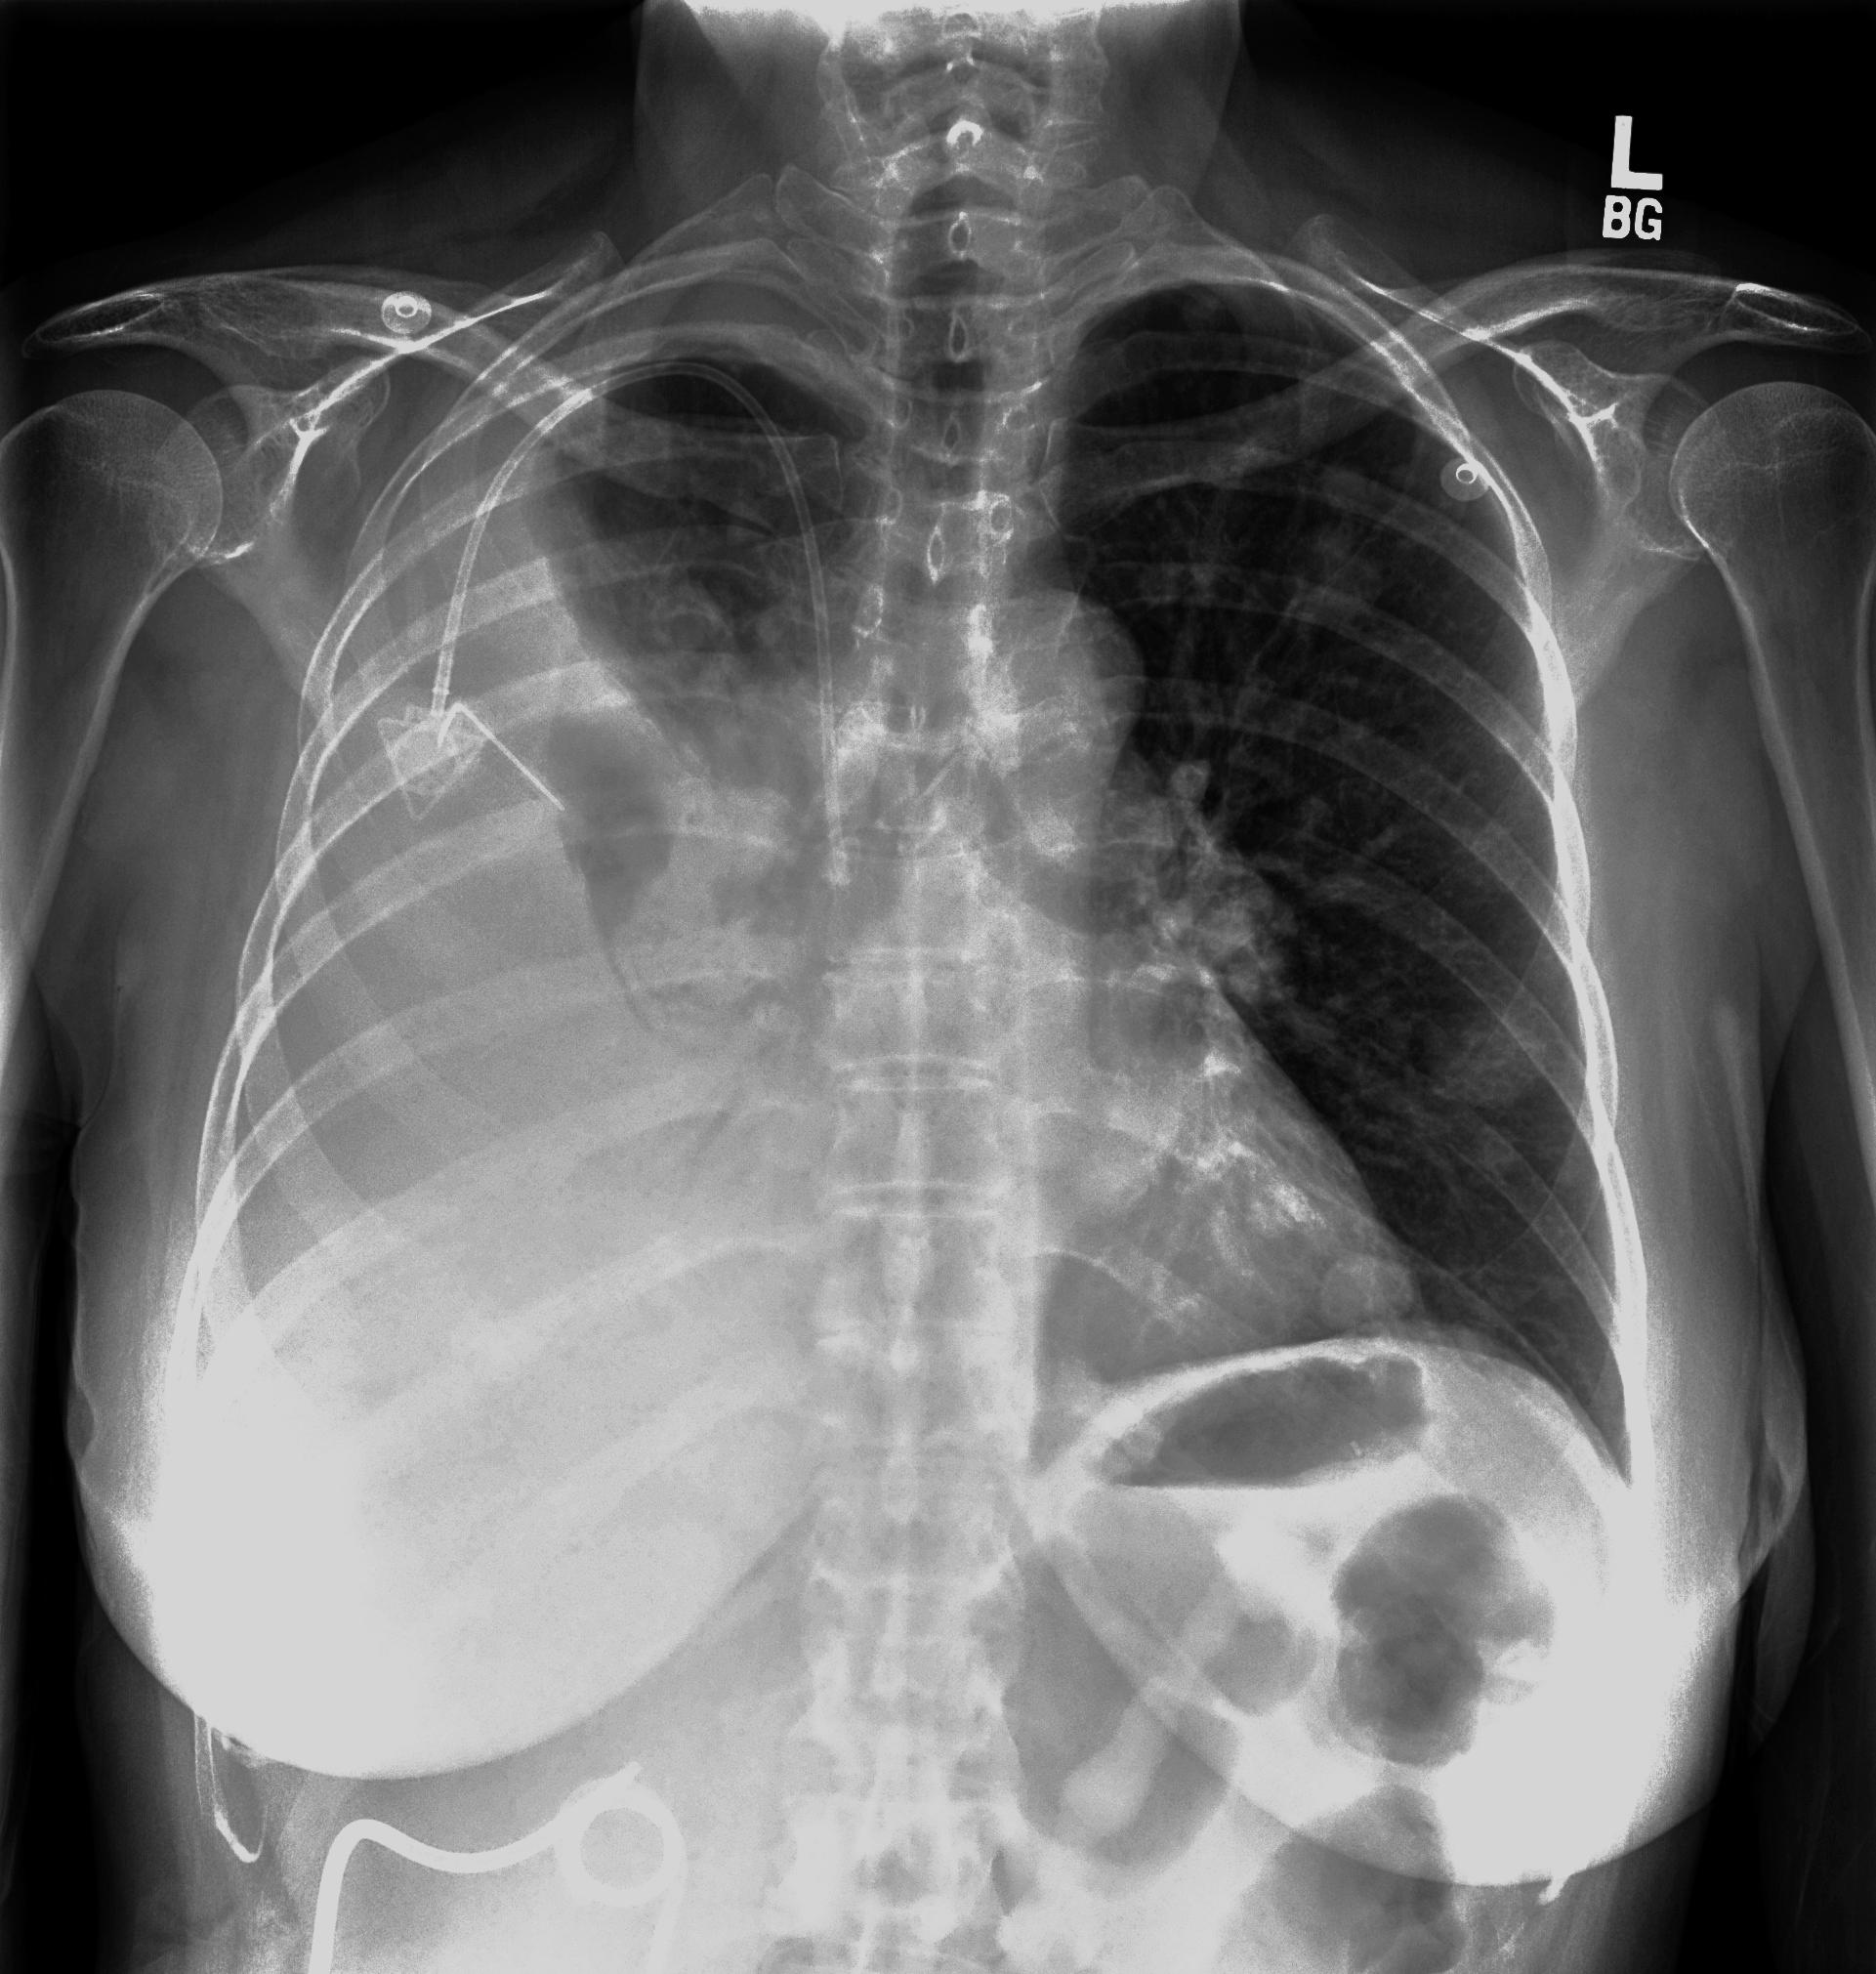Pleural Effusion: (210, 620, 618, 1421)
